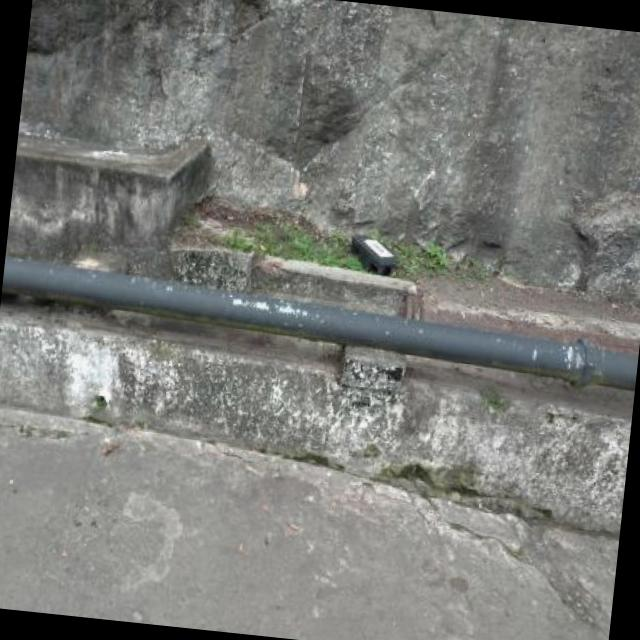gas: (4, 255, 636, 390)
